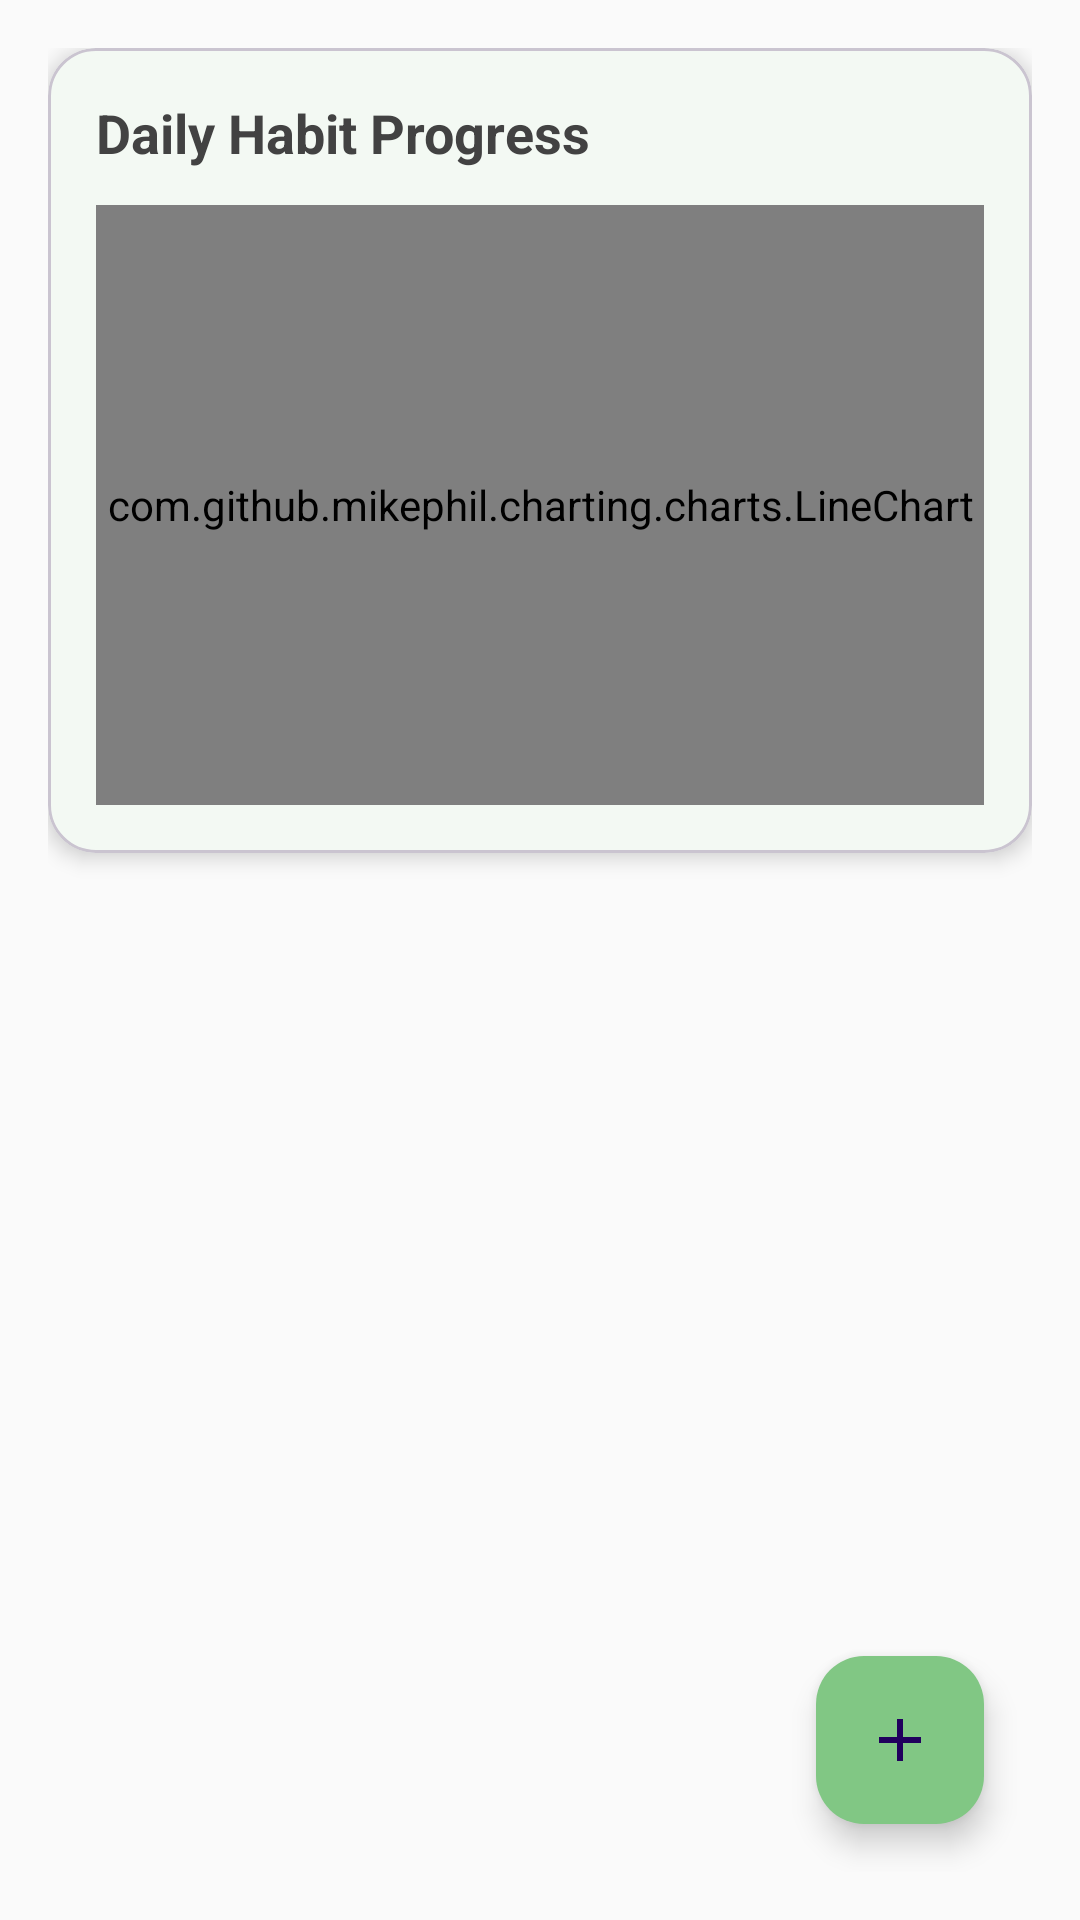

Icon click points for this 1080 x 1920 phone screenshot, format [x,y]:
Add Habit: [900,1740]
